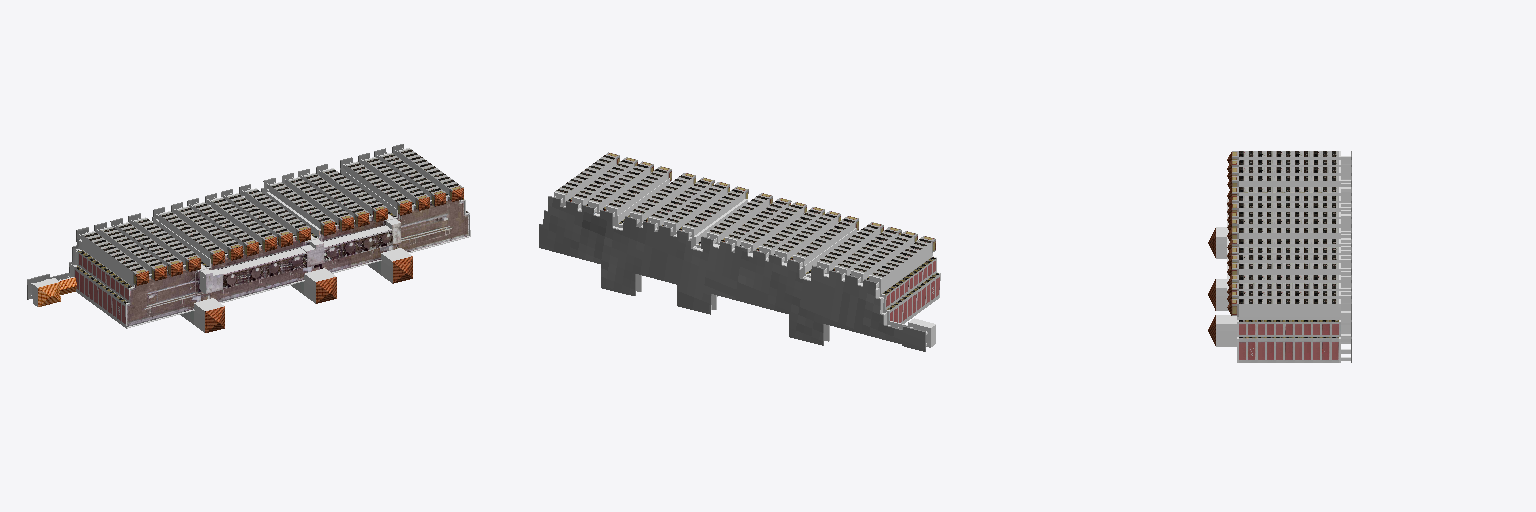
3 views of the same model, side by side, from view 1: azimuth 30°, elevation 25°; view 2: azimuth 150°, elevation 25°; view 3: azimuth 270°, elevation 25° (orthographic).
Parts seen in each view (by area): view 1: polygon.788; view 2: polygon.788; view 3: polygon.788.
Part boxes in pixels (bbox=[...]): polygon.788: bbox=[27, 144, 470, 332]; polygon.788: bbox=[539, 152, 940, 351]; polygon.788: bbox=[1208, 151, 1351, 362].
Size of the model in its own units: 137 by 27.83 by 44.23.
1 materials, 1 textured.